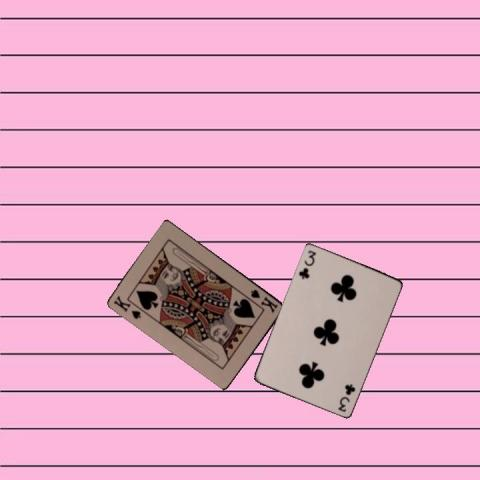3c: (334, 380, 357, 412), (296, 247, 318, 280)
Ks: (110, 292, 142, 320), (248, 286, 279, 314)
